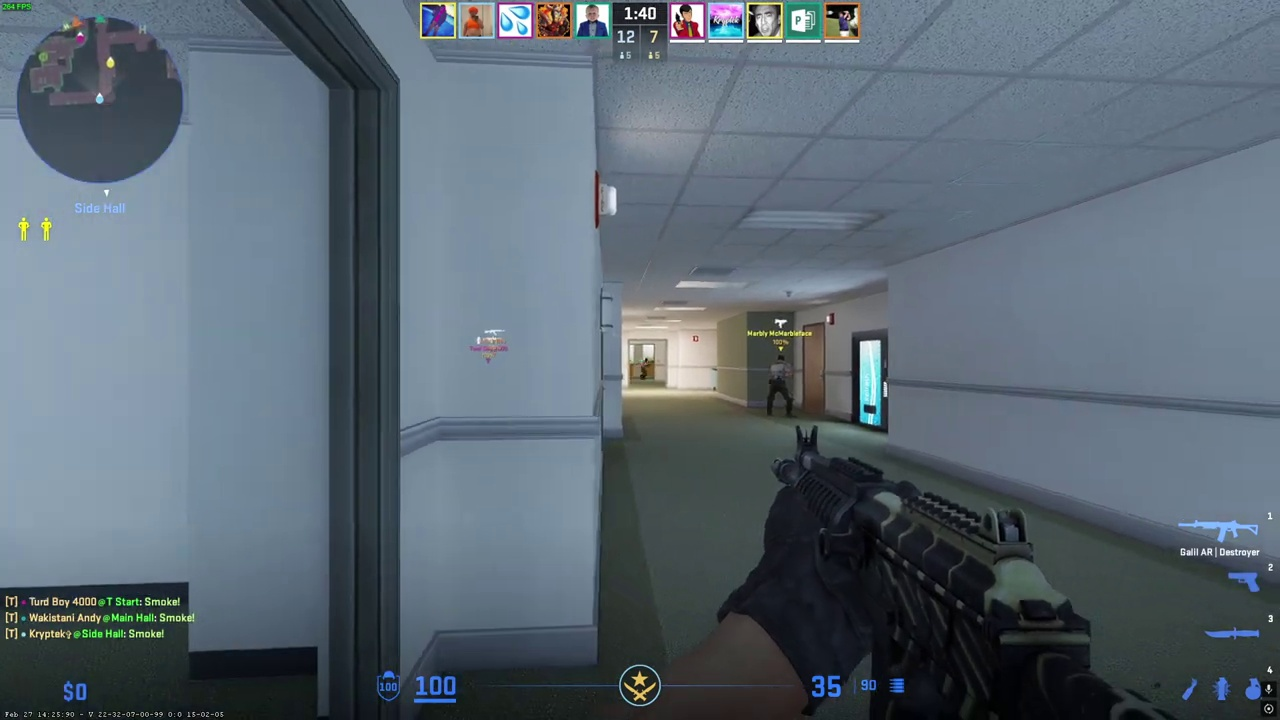Terrorist: (767, 355, 794, 417), (640, 358, 649, 380)
